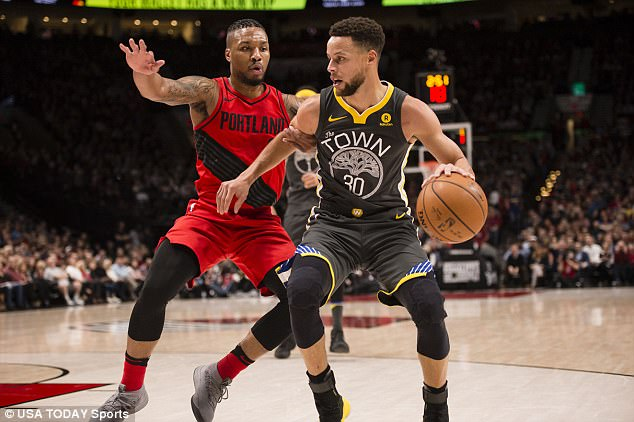Basketball: (413, 172, 489, 245)
